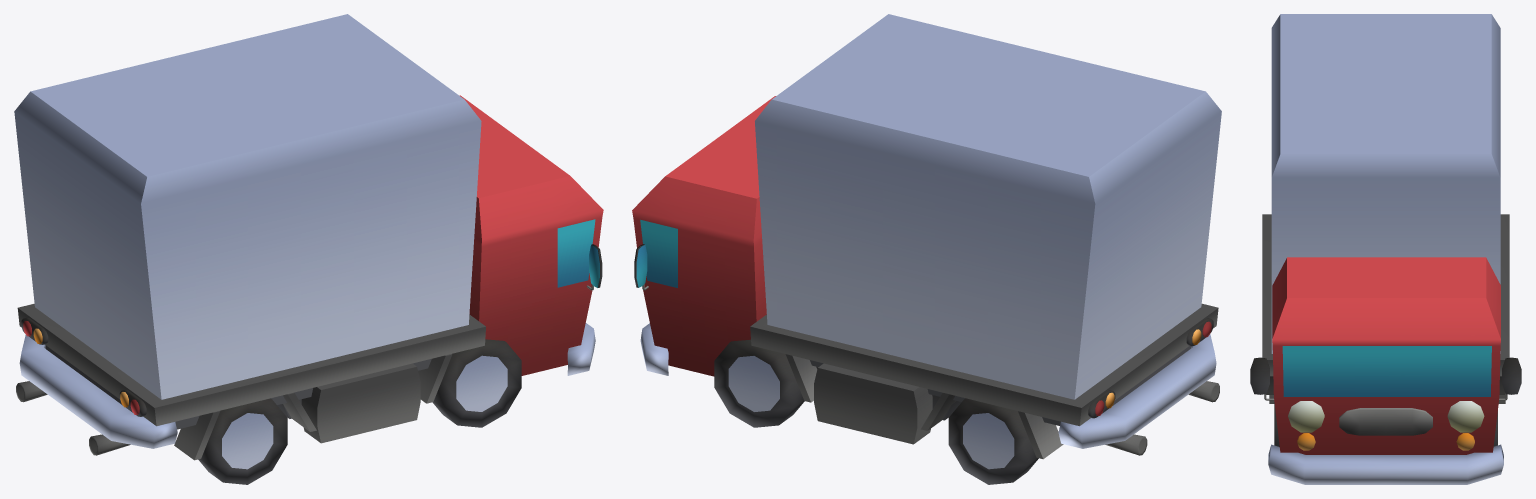
The model's file is truck.fbx.
3 renders of one model, left to right at view 1: azimuth 30°, elevation 25°; view 2: azimuth 150°, elevation 25°; view 3: azimuth 270°, elevation 25°, orthographic. The views are drawn at different scales.
Parts seen in each view (by area): view 1: truck; view 2: truck; view 3: truck.
Boxes of the visible parts, x1,y1,x2,y2 form: truck: (14,14,603,484); truck: (632,14,1221,484); truck: (1250,14,1521,484).
Bounding box in the file's own units: 14.62 × 9.33 × 7.71.
